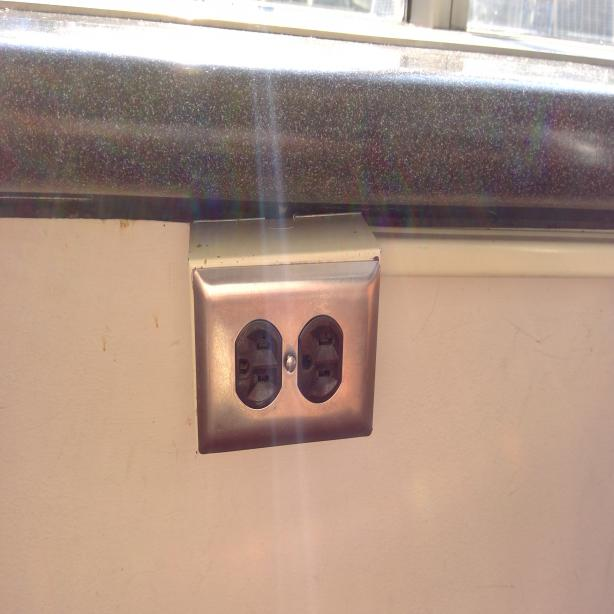typeb: (235, 330, 279, 403), (298, 316, 340, 391)
